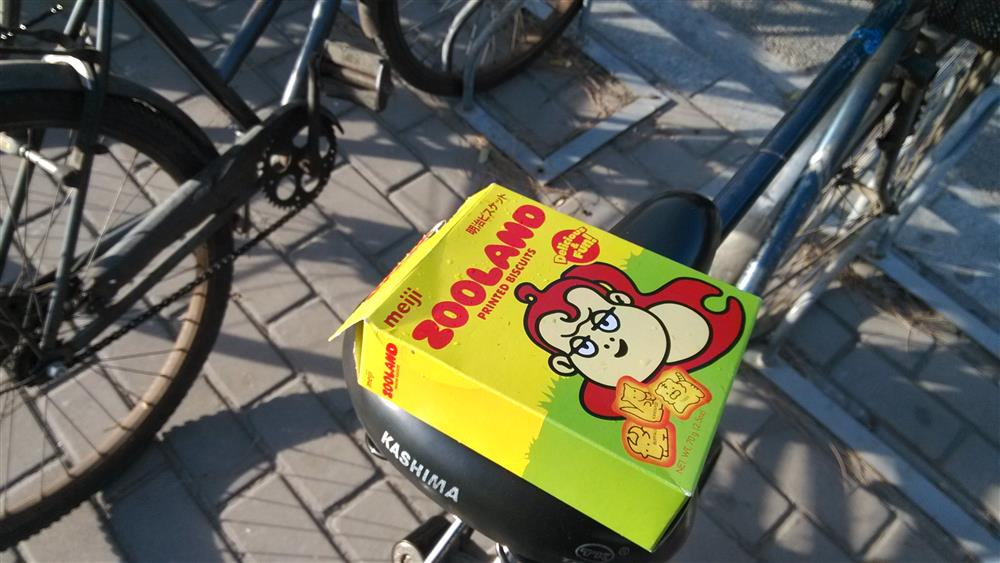zooland: (364, 178, 760, 549)
